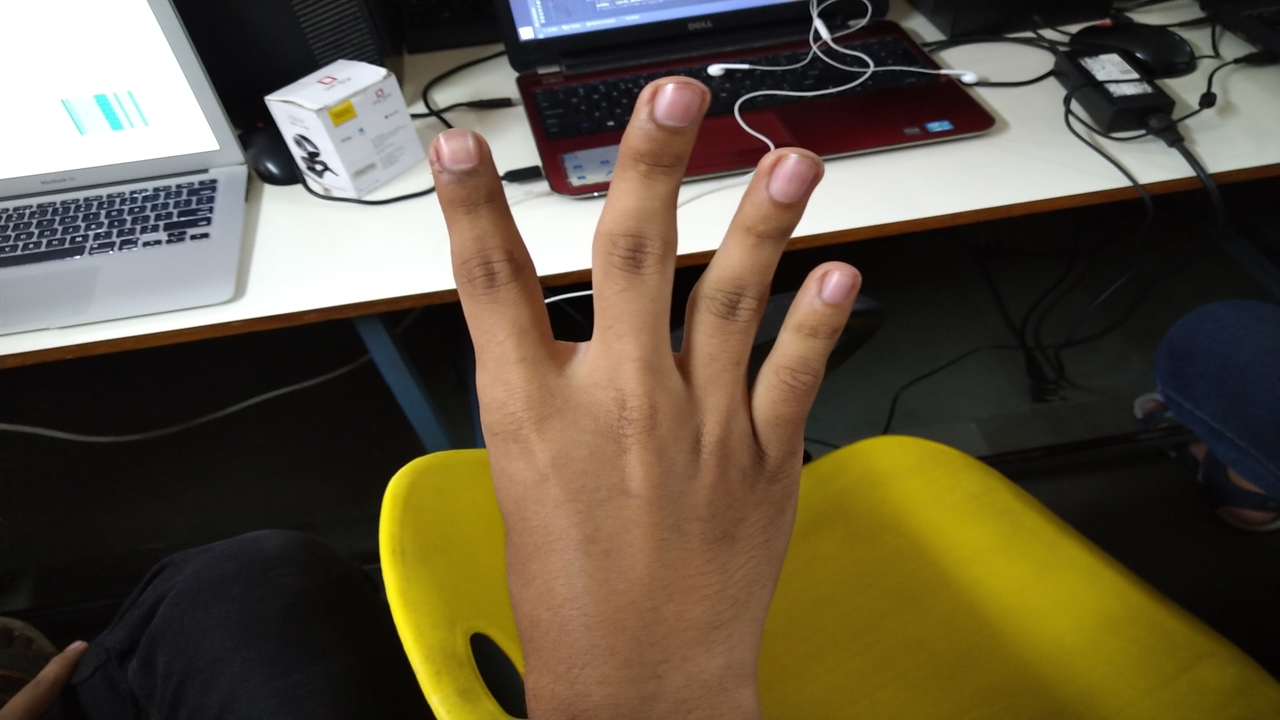fingertip: (750, 136, 826, 212), (636, 72, 714, 136), (418, 116, 492, 180), (802, 256, 868, 320)
